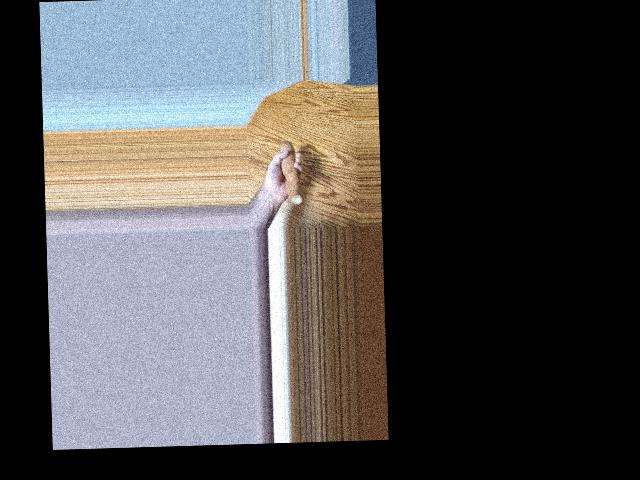sweet_potato: (276, 135, 300, 207)
